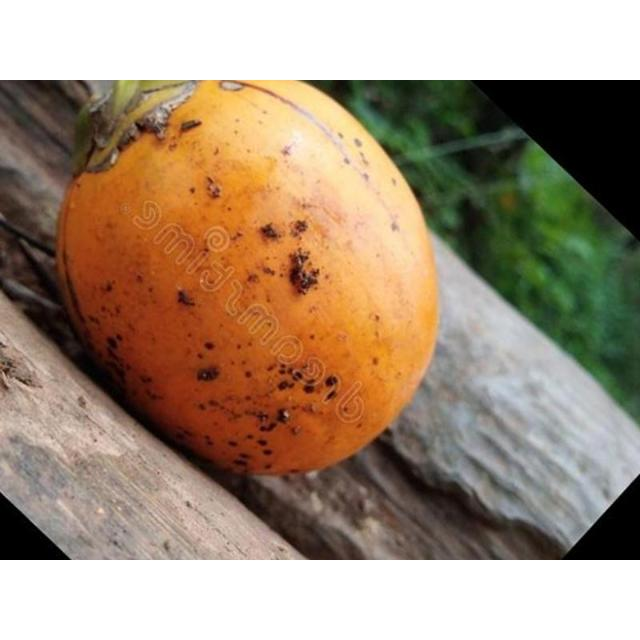good: (54, 80, 442, 479)
